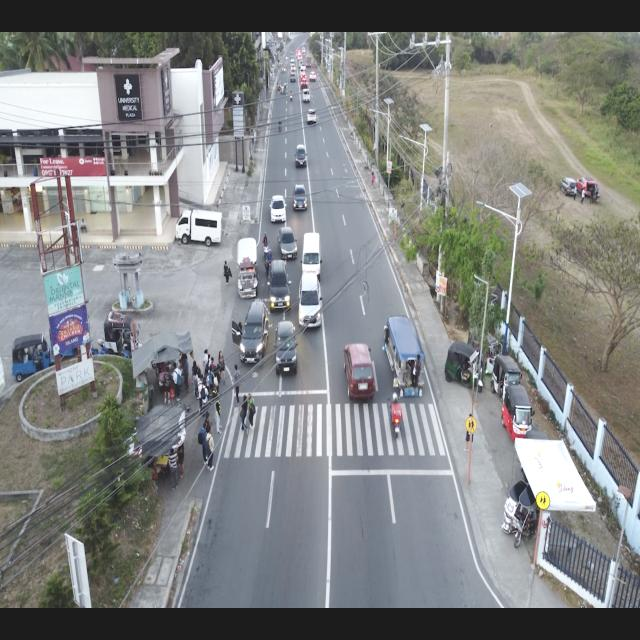car: (381, 314, 426, 399), (230, 300, 270, 369), (342, 342, 376, 403), (175, 208, 222, 248), (296, 271, 324, 330), (272, 320, 300, 378), (237, 237, 260, 301), (267, 259, 293, 315), (300, 231, 323, 284), (276, 226, 300, 262), (269, 194, 287, 224), (576, 175, 598, 199), (292, 183, 308, 211), (559, 177, 578, 198), (294, 144, 308, 169), (306, 108, 317, 125), (302, 88, 311, 104), (300, 78, 308, 91), (309, 71, 316, 82), (300, 73, 307, 83), (290, 72, 296, 83), (300, 68, 306, 78)
motorcycle: (498, 480, 541, 545), (445, 342, 483, 394), (501, 388, 536, 438), (491, 352, 522, 404), (387, 392, 403, 440), (264, 248, 276, 276), (261, 230, 271, 260), (278, 119, 282, 132), (289, 90, 293, 102)
person: (198, 420, 210, 466), (203, 427, 215, 472), (230, 364, 242, 406), (239, 395, 250, 437), (171, 362, 182, 402), (216, 350, 227, 386), (190, 359, 200, 398), (246, 393, 256, 432), (200, 380, 210, 419), (194, 374, 203, 415), (162, 366, 171, 406), (214, 397, 223, 435), (211, 384, 219, 421), (202, 412, 213, 438), (223, 259, 233, 287), (212, 365, 220, 397), (202, 349, 209, 372), (208, 356, 215, 376), (204, 352, 210, 374), (80, 218, 87, 235), (371, 170, 375, 188)
truck: (306, 56, 312, 68)
